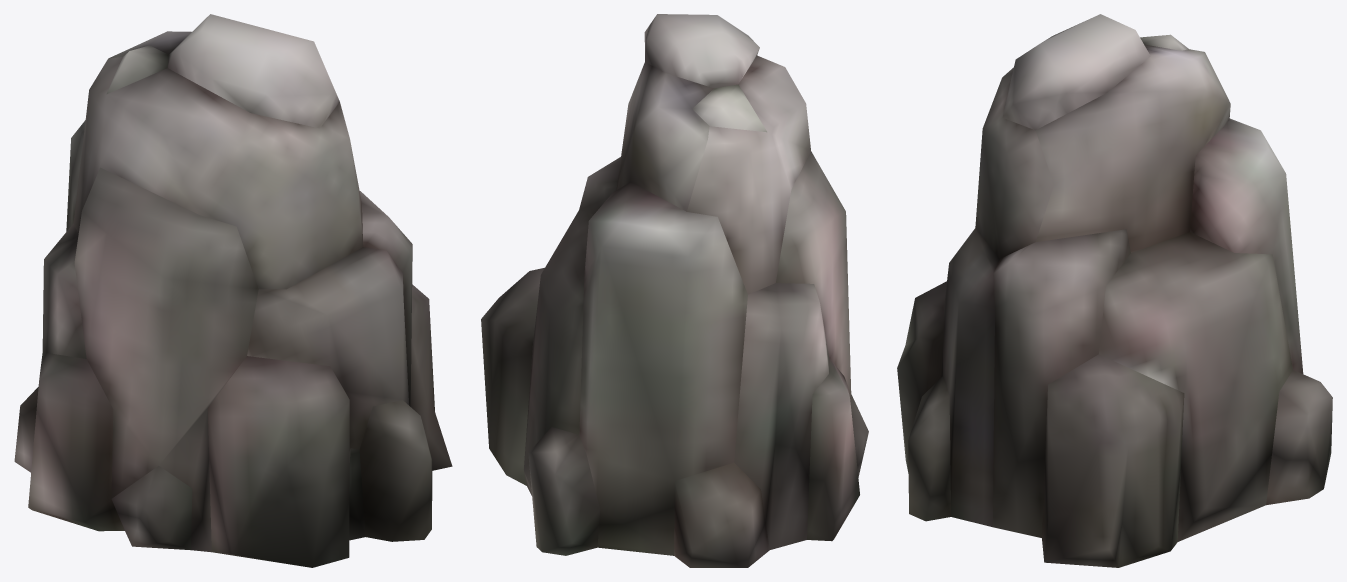
File: rock-big-2.lod1.glb
The picture shows the model from 3 angles, left to right: view 1: azimuth 30°, elevation 25°; view 2: azimuth 150°, elevation 25°; view 3: azimuth 270°, elevation 25°; orthographic projection. The views are drawn at different scales.
Visible parts, largest first — view 1: BIG_1_BiG_0; view 2: BIG_1_BiG_0; view 3: BIG_1_BiG_0.
Part boxes in pixels (x1,y1,x2,y2): BIG_1_BiG_0: (14,14,452,567); BIG_1_BiG_0: (481,14,868,567); BIG_1_BiG_0: (897,14,1332,567).
Size of the model in its own units: 8.65 by 10.22 by 8.91.
Materials: 1 (1 with a texture image).
